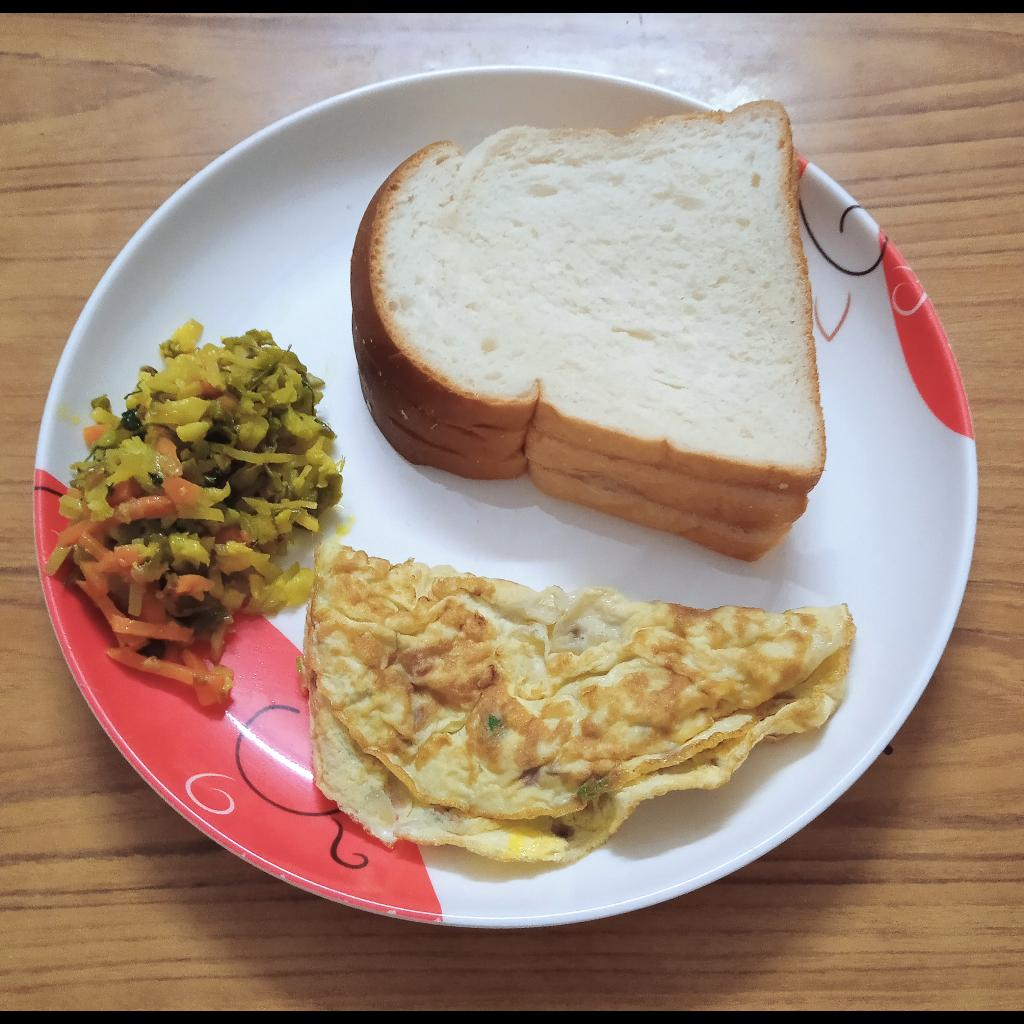bread: (358, 102, 824, 565)
egg-poached: (303, 542, 861, 863)
vegetable: (70, 345, 325, 690)
